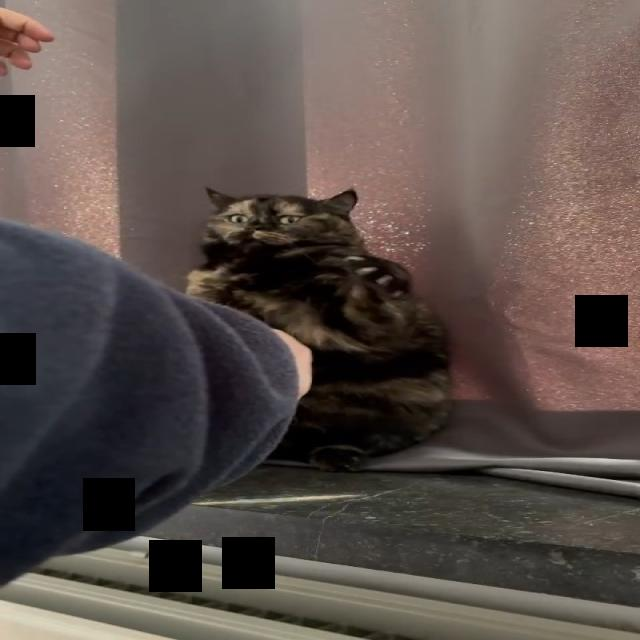authorized: (183, 185, 453, 472)
